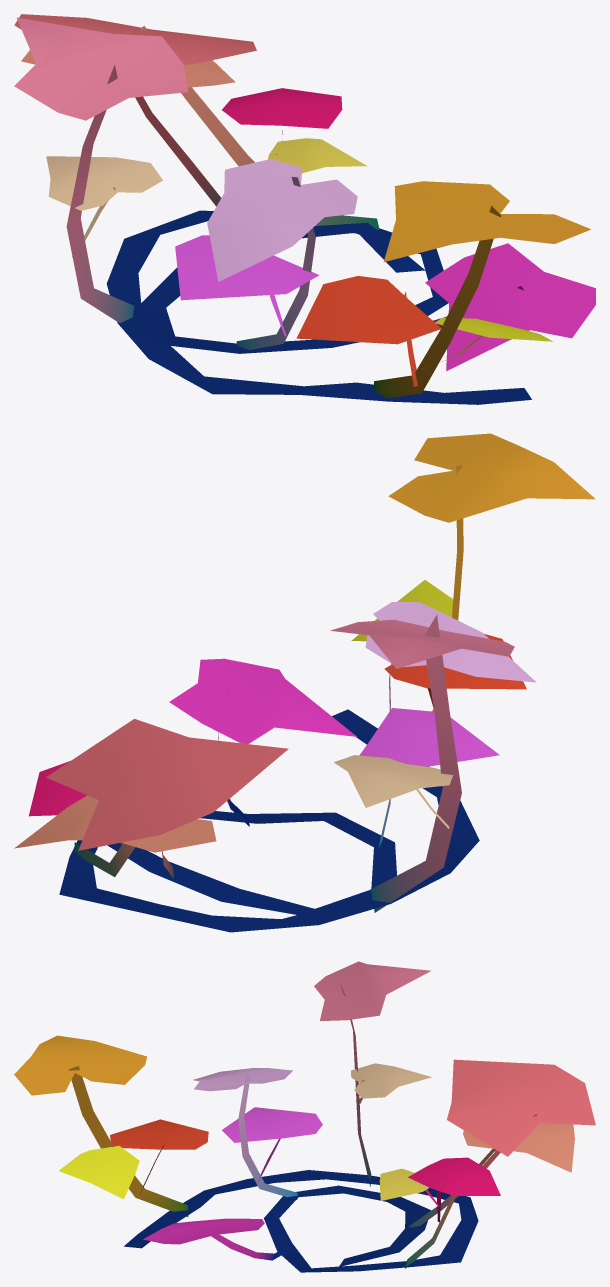
The model's file is English_Ivy_xfcnebhqx_High_xfcnebhqx_VarH_LOD2.fbx.
The picture shows the model from 3 angles, top to bottom: view 1: azimuth 30°, elevation 25°; view 2: azimuth 150°, elevation 25°; view 3: azimuth 270°, elevation 25°; orthographic projection. The views are drawn at different scales.
Visible parts, largest first — view 1: _t7al_VarH_LOD2; view 2: _t7al_VarH_LOD2; view 3: _t7al_VarH_LOD2.
Part boxes in pixels (left/top/right/bottom): _t7al_VarH_LOD2: left=14, top=14, right=595, bottom=404; _t7al_VarH_LOD2: left=14, top=433, right=595, bottom=932; _t7al_VarH_LOD2: left=14, top=961, right=595, bottom=1272.
Size of the model in its own units: 19.6 by 12.57 by 33.57.
